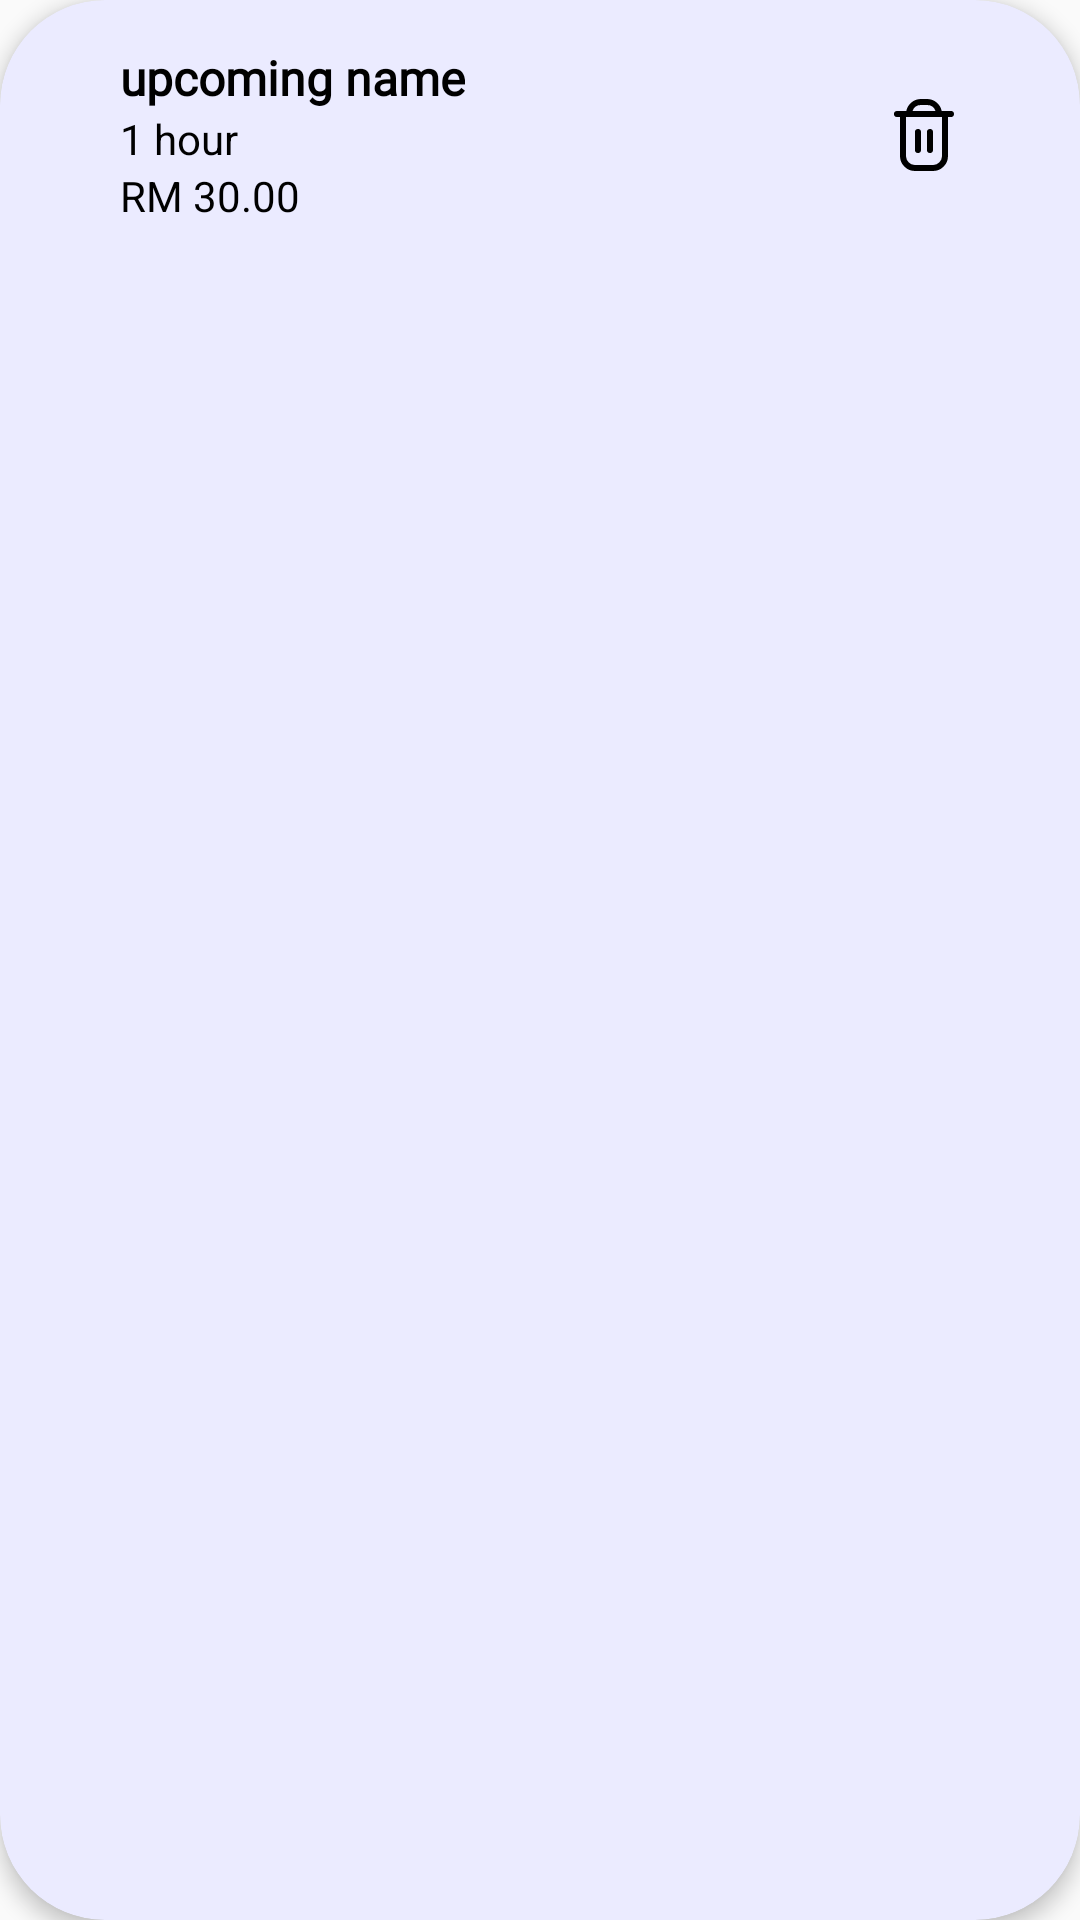

Screen size 1080w x 1920h. Icon name, then its box in pixels as rect(x1, y1, x2, y2):
trash: rect(894, 99, 954, 171)
